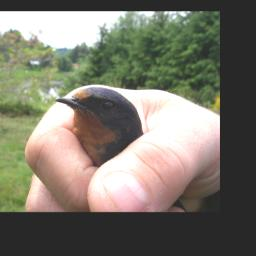Swallow: (52, 85, 145, 168)
